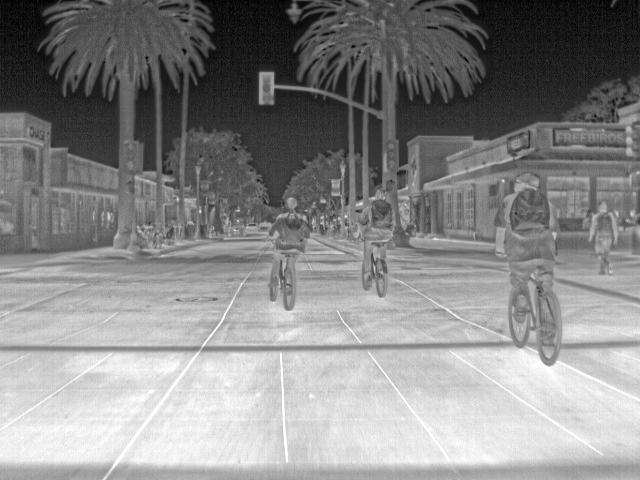car: (257, 220, 272, 231), (244, 222, 258, 231)
person: (493, 170, 559, 323), (266, 195, 307, 289), (360, 188, 395, 290), (587, 200, 619, 274), (340, 213, 352, 241), (624, 207, 639, 224), (581, 214, 591, 228), (336, 214, 343, 233), (613, 208, 620, 222), (333, 214, 338, 232)
